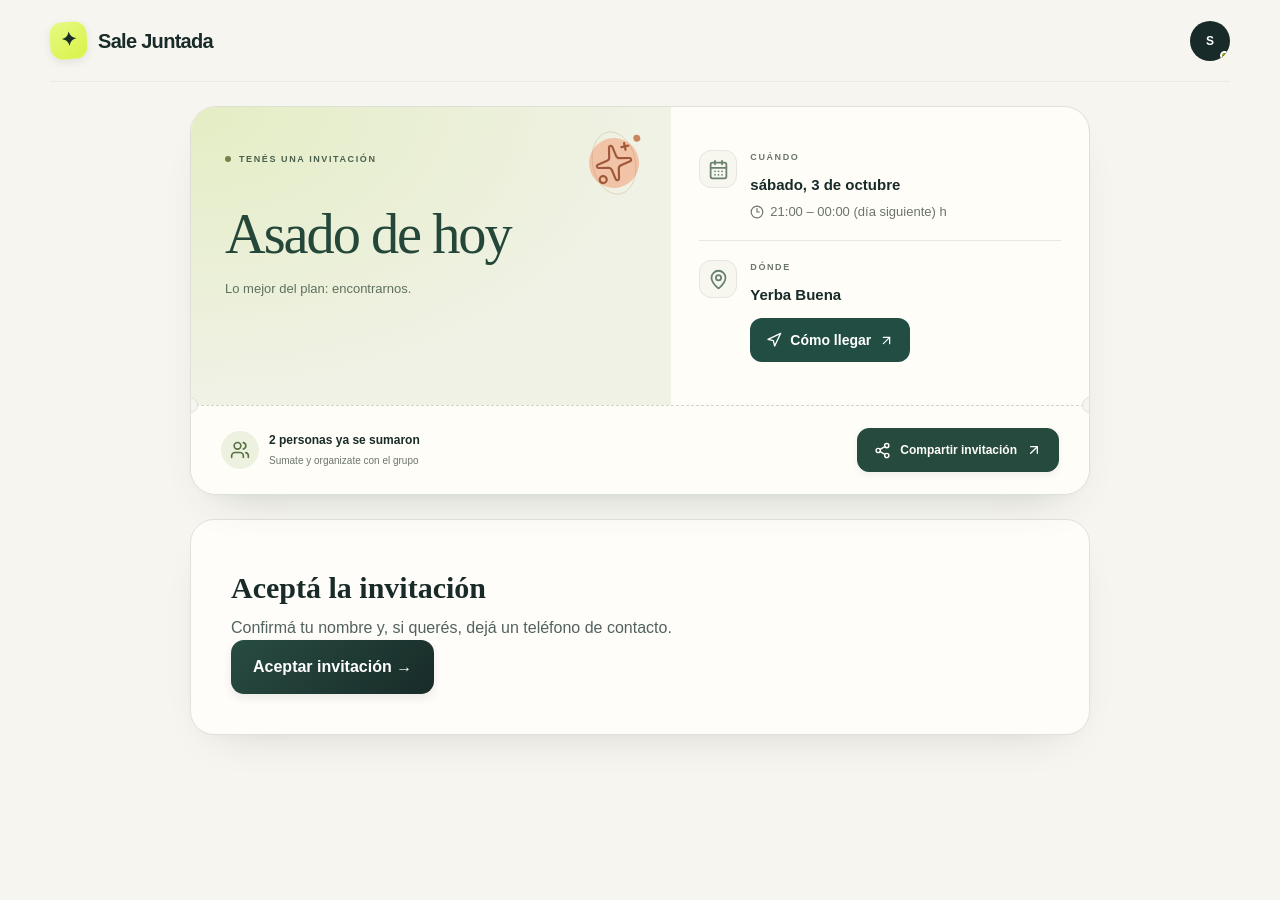
Test: invitación y asistencia en vivo › rechaza un número incompleto antes de enviarlo
The width and height of the screenshot is (1280, 900).
Click the button "Aceptar invitación →": (333, 667) [231,640,434,694]
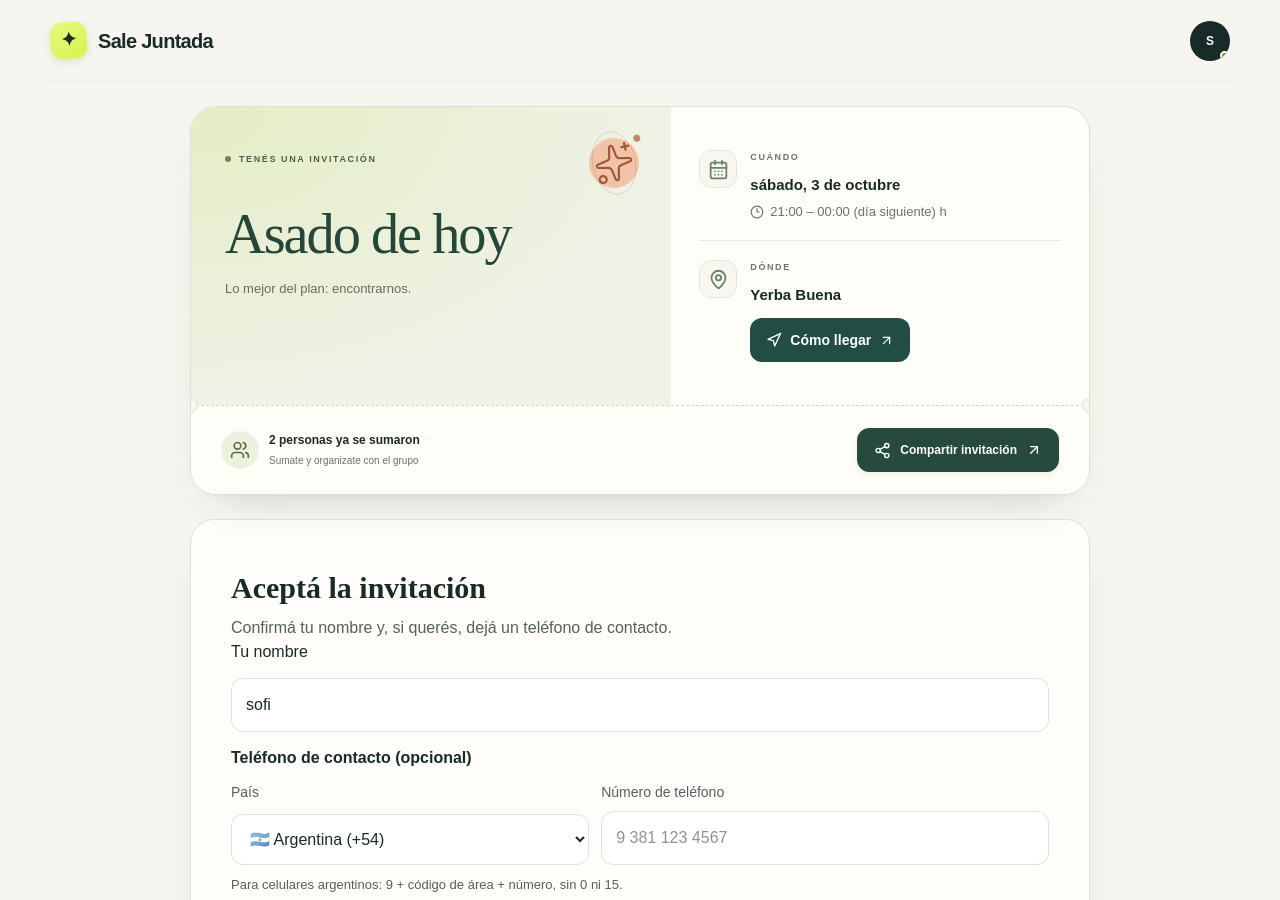
Replace the text in the field labelled "Tu nombre" with "Sofi": (640, 705) [231,678,1049,732]
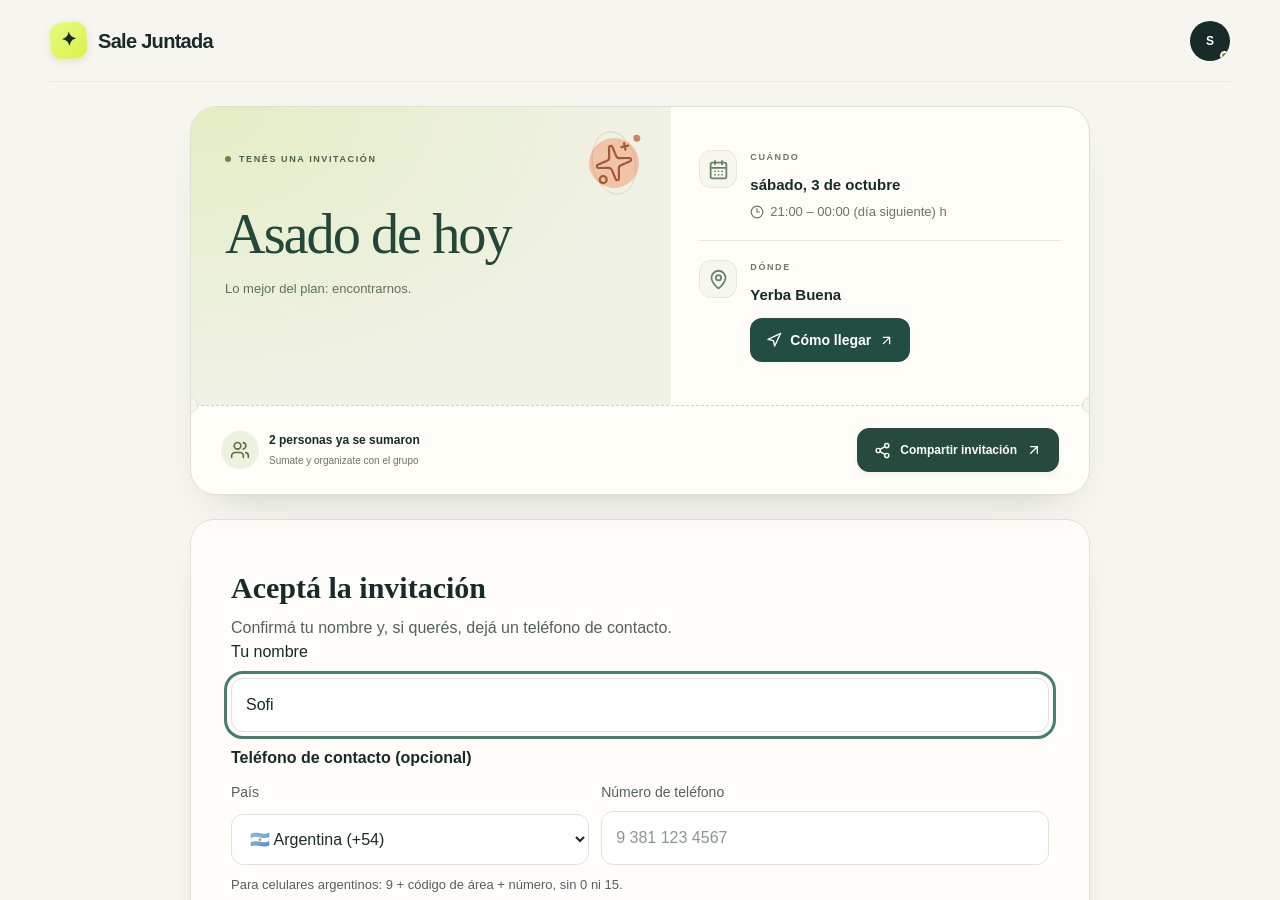
In the field labelled "Número de teléfono": (825, 838) [601,811,1049,865], type "123"
(page scrolled)
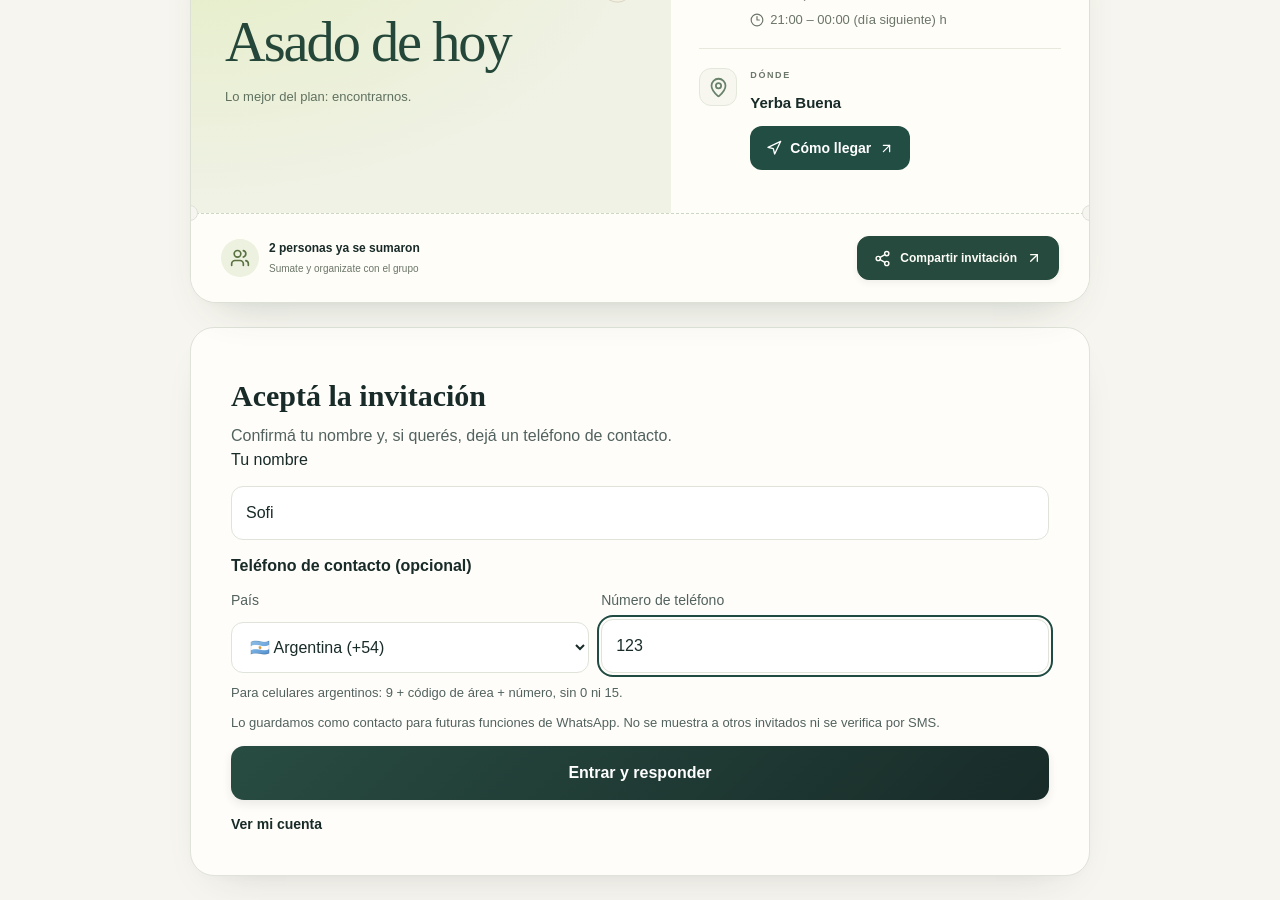
Click the button "Entrar y responder": (640, 773) [231,746,1049,800]
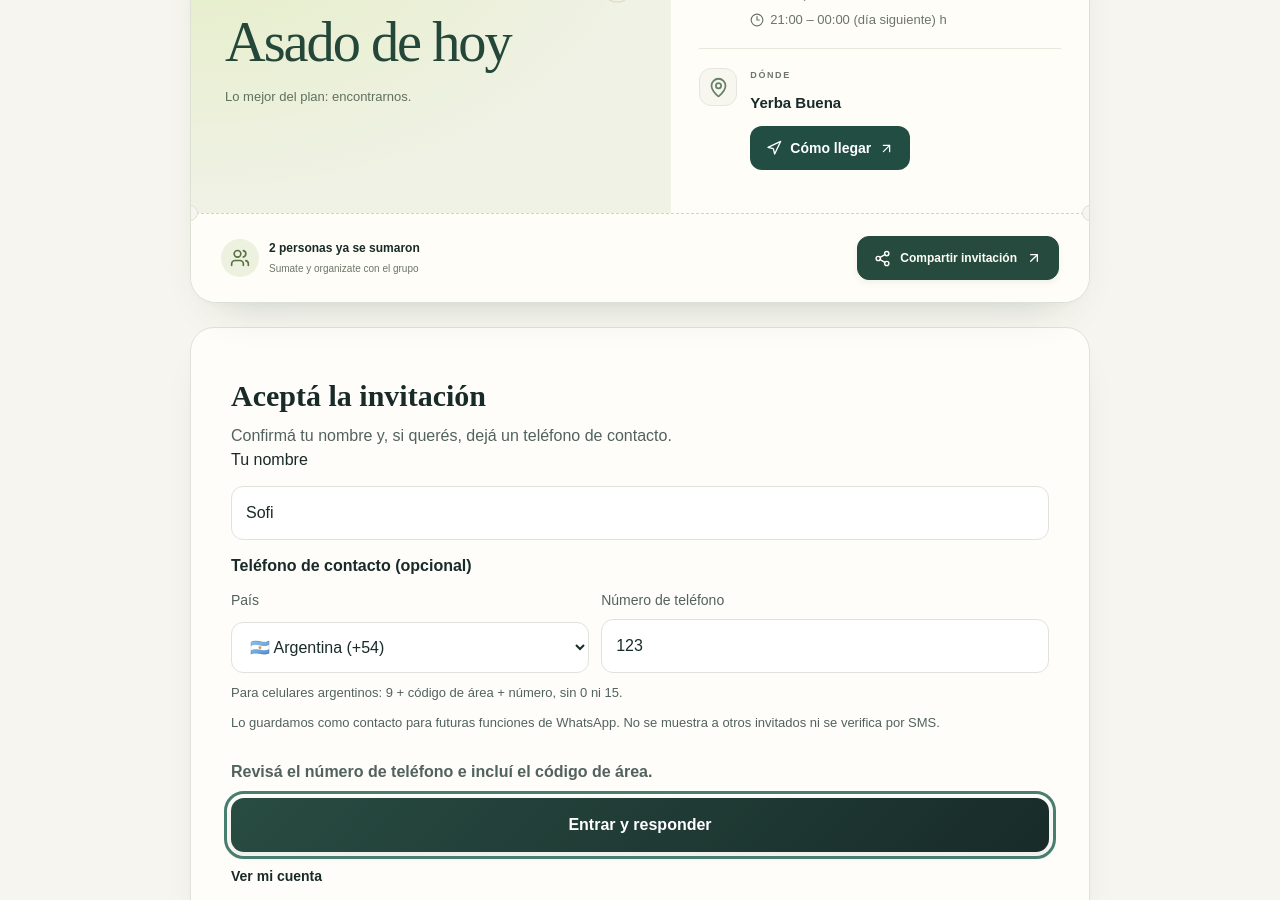
Expected: the message shows "código de área", [231,763,652,780]
